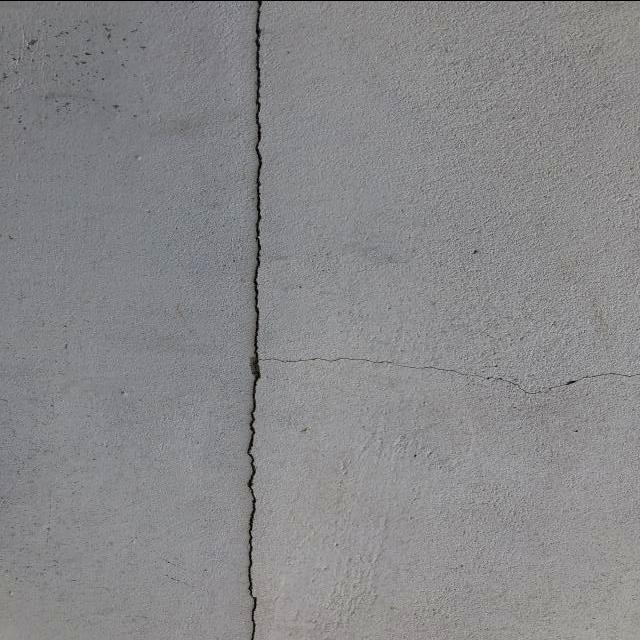SurfaceCrack: (122, 320, 640, 423), (222, 0, 300, 640)
